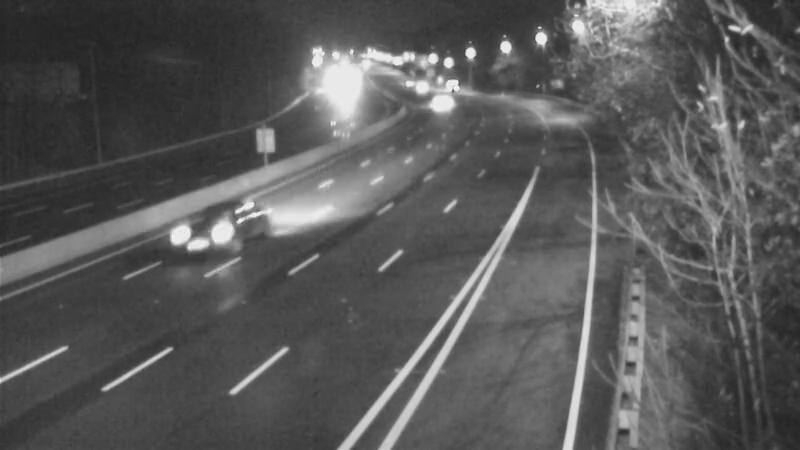vehicle: (174, 195, 254, 275), (422, 62, 472, 112), (398, 61, 448, 111), (421, 77, 471, 127), (315, 68, 365, 118)
